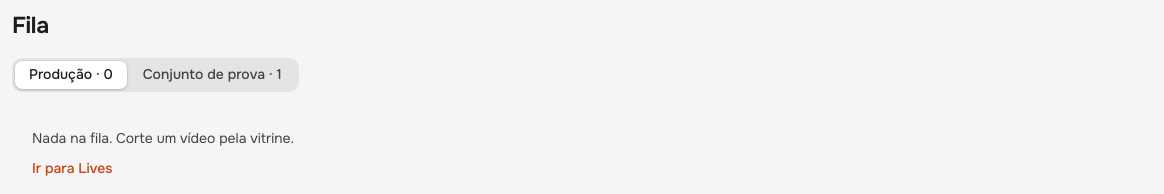
Fila › conjunto de prova fica separado da produção
Expected: the text "Nada na fila. Corte um vídeo pela vitrine." is shown, [32, 129, 294, 147]
Click the tab "Conjunto de prova · 1". click: (212, 75)
box: [129, 61, 296, 89]
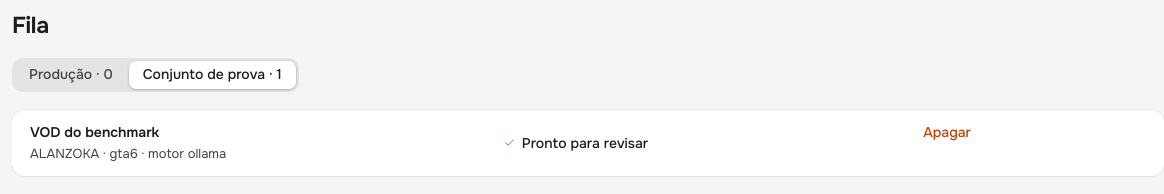
Now the link "VOD do benchmark" is shown, box [30, 123, 159, 141]
